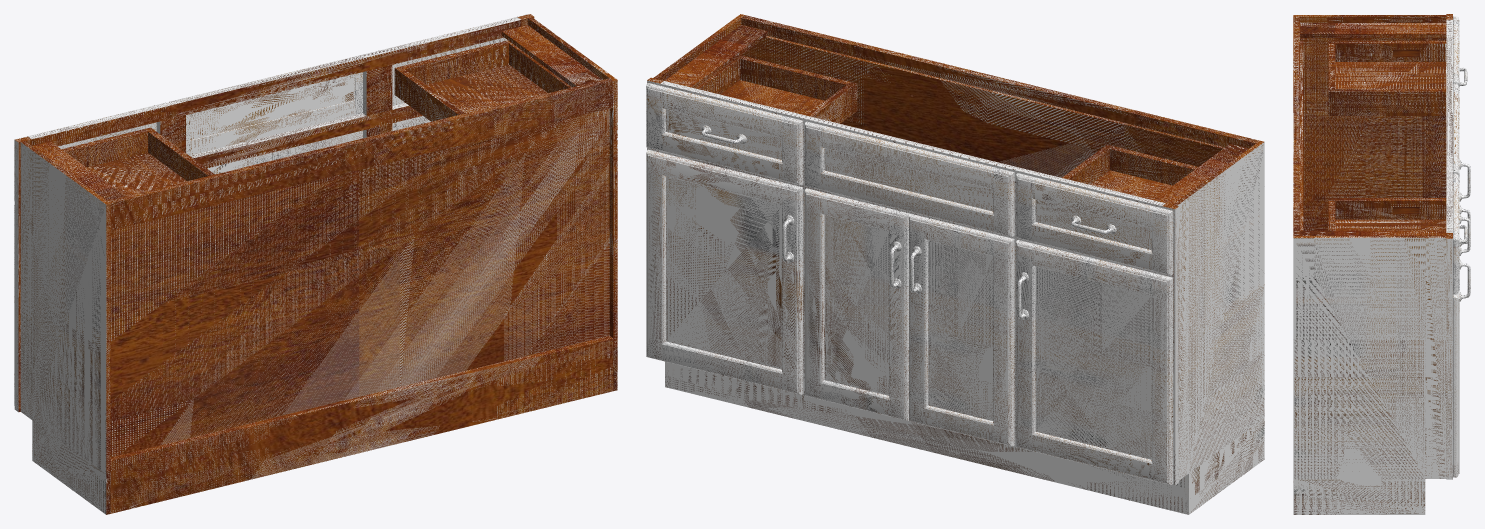
3 views of the same model, side by side, from view 1: azimuth 30°, elevation 25°; view 2: azimuth 150°, elevation 25°; view 3: azimuth 270°, elevation 25° (orthographic). The views are drawn at different scales.
Parts seen in each view (by area): view 1: mesh4_mesh4-geometry, mesh13_mesh13-geometry, mesh7_mesh7-geometry, mesh3_mesh3-geometry, mesh5_mesh5-geometry, mesh23_mesh23-geometry, mesh20_mesh20-geometry, mesh21_mesh21-geometry, mesh33_mesh33-geometry, mesh6_mesh6-geometry, mesh8_mesh8-geometry, mesh10_mesh10-geometry (+8 smaller); view 2: mesh42_mesh42-geometry, mesh53_mesh53-geometry, mesh4_mesh4-geometry, mesh7_mesh7-geometry, mesh14_mesh14-geometry, mesh31_mesh31-geometry, mesh34_mesh34-geometry, mesh32_mesh32-geometry, mesh3_mesh3-geometry, mesh58_mesh58-geometry, mesh45_mesh45-geometry, mesh46_mesh46-geometry (+30 smaller); view 3: mesh10_mesh10-geometry, mesh7_mesh7-geometry, mesh20_mesh20-geometry, mesh9_mesh9-geometry, mesh11_mesh11-geometry, mesh23_mesh23-geometry, mesh16_mesh16-geometry, mesh6_mesh6-geometry, mesh2_mesh2-geometry, mesh3_mesh3-geometry, mesh5_mesh5-geometry, mesh31_mesh31-geometry (+8 smaller).
Part boxes in pixels (left/top/right/bottom): mesh4_mesh4-geometry: left=110, top=109, right=609, bottom=457; mesh13_mesh13-geometry: left=110, top=335, right=613, bottom=513; mesh7_mesh7-geometry: left=32, top=149, right=110, bottom=474; mesh3_mesh3-geometry: left=107, top=78, right=613, bottom=230; mesh5_mesh5-geometry: left=28, top=17, right=521, bottom=168; mesh23_mesh23-geometry: left=87, top=64, right=547, bottom=195; mesh20_mesh20-geometry: left=144, top=40, right=571, bottom=181; mesh21_mesh21-geometry: left=61, top=41, right=508, bottom=167; mesh33_mesh33-geometry: left=190, top=78, right=353, bottom=139; mesh6_mesh6-geometry: left=20, top=141, right=36, bottom=419; mesh8_mesh8-geometry: left=32, top=420, right=110, bottom=514; mesh10_mesh10-geometry: left=539, top=26, right=617, bottom=350; mesh42_mesh42-geometry: left=667, top=177, right=888, bottom=393; mesh53_mesh53-geometry: left=929, top=242, right=1151, bottom=457; mesh4_mesh4-geometry: left=741, top=36, right=1224, bottom=177; mesh7_mesh7-geometry: left=1185, top=140, right=1264, bottom=472; mesh14_mesh14-geometry: left=669, top=362, right=1184, bottom=513; mesh31_mesh31-geometry: left=665, top=88, right=1152, bottom=227; mesh34_mesh34-geometry: left=667, top=109, right=1151, bottom=249; mesh32_mesh32-geometry: left=665, top=132, right=1150, bottom=270; mesh3_mesh3-geometry: left=741, top=15, right=1259, bottom=148; mesh58_mesh58-geometry: left=993, top=257, right=1173, bottom=463; mesh45_mesh45-geometry: left=646, top=173, right=825, bottom=378; mesh46_mesh46-geometry: left=781, top=206, right=908, bottom=399; mesh10_mesh10-geometry: left=1293, top=236, right=1425, bottom=478; mesh7_mesh7-geometry: left=1293, top=15, right=1425, bottom=230; mesh20_mesh20-geometry: left=1328, top=40, right=1446, bottom=219; mesh9_mesh9-geometry: left=1425, top=236, right=1446, bottom=478; mesh11_mesh11-geometry: left=1293, top=479, right=1425, bottom=514; mesh23_mesh23-geometry: left=1335, top=62, right=1446, bottom=230; mesh16_mesh16-geometry: left=1300, top=23, right=1446, bottom=37; mesh6_mesh6-geometry: left=1425, top=15, right=1446, bottom=197; mesh2_mesh2-geometry: left=1446, top=14, right=1452, bottom=479; mesh3_mesh3-geometry: left=1293, top=16, right=1299, bottom=235; mesh5_mesh5-geometry: left=1446, top=19, right=1452, bottom=232; mesh31_mesh31-geometry: left=1453, top=25, right=1459, bottom=233.
Bounding box in the file's own units: 0.8328 × 0.4789 × 0.2776.
